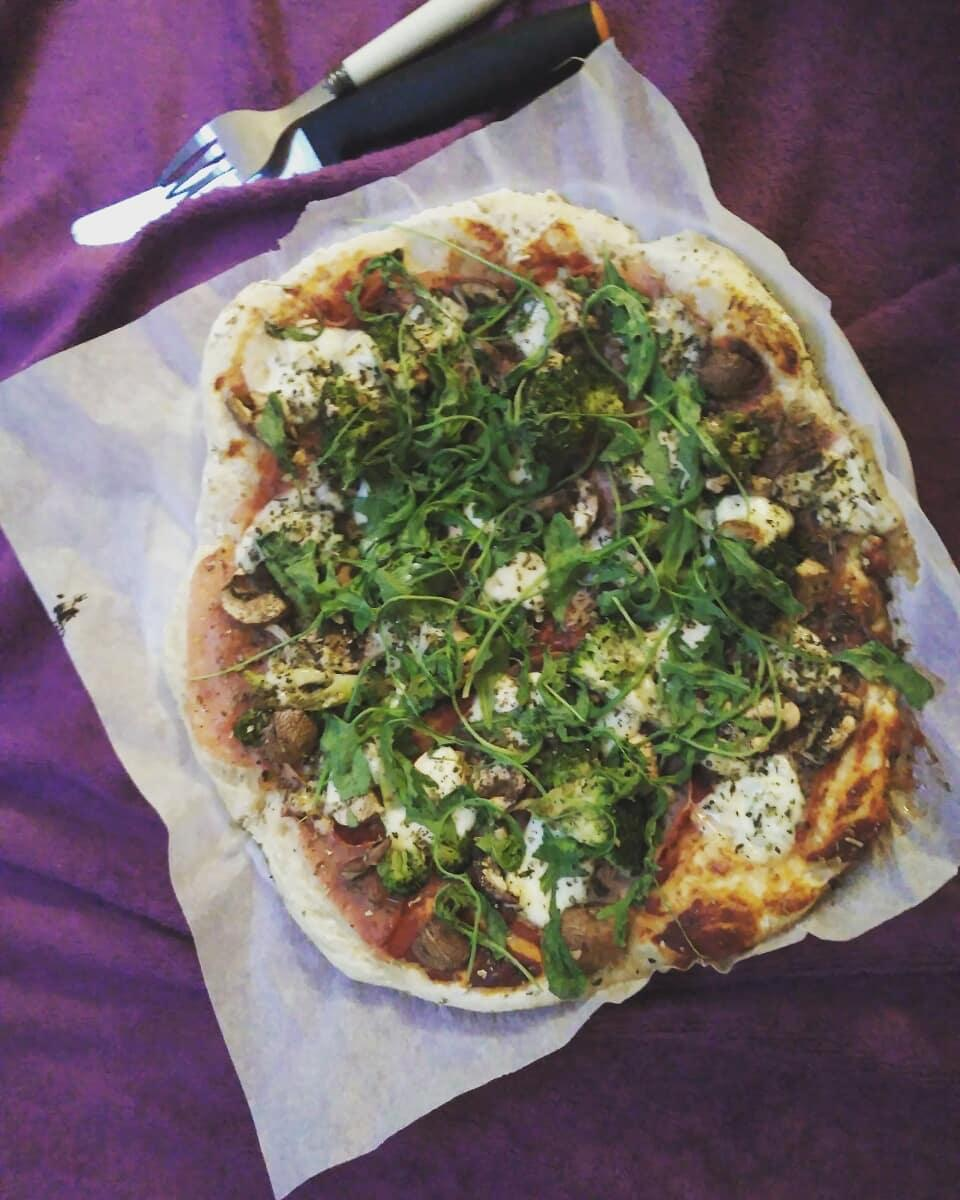Arugula: (370, 424, 488, 586), (654, 525, 741, 729), (488, 418, 701, 491), (385, 624, 469, 710)
Cheese: (257, 328, 381, 416), (698, 763, 795, 860), (235, 489, 340, 572), (391, 748, 473, 844), (520, 817, 587, 921), (720, 499, 785, 542)
Pizza: (184, 189, 912, 1011)
